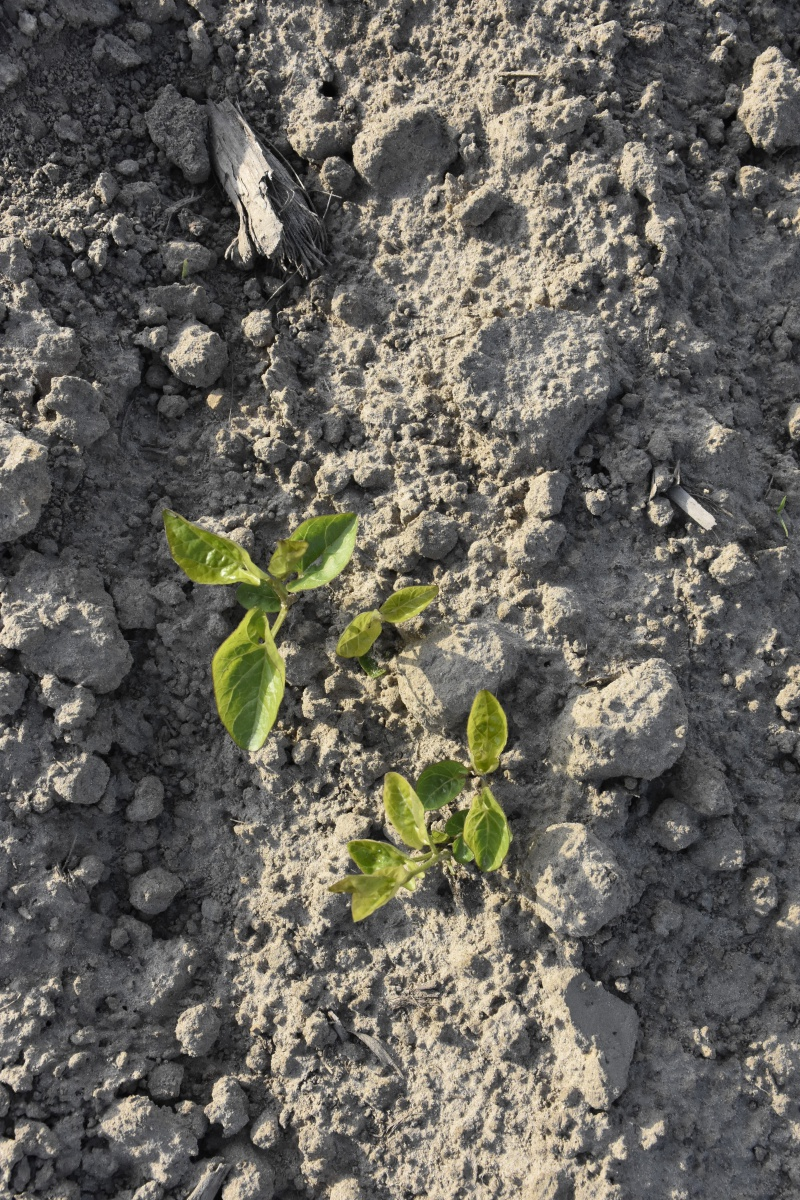field bindweed: (160, 508, 356, 761), (351, 685, 526, 934), (336, 574, 437, 675)
